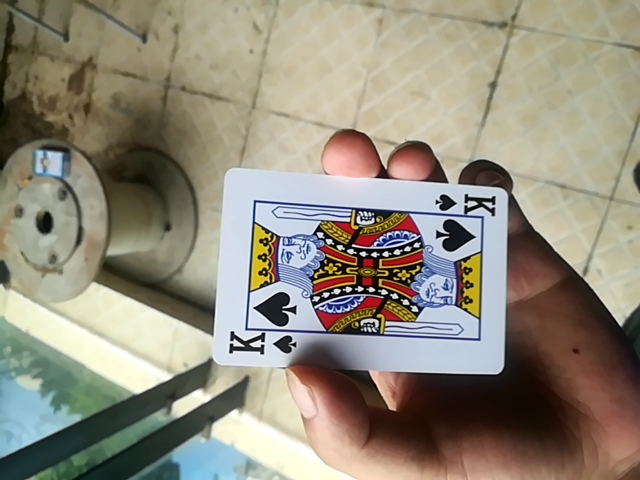ht k: (210, 172, 508, 377)
